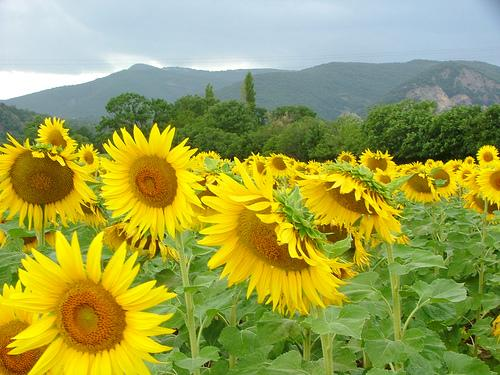sunflower: (3, 230, 176, 375), (199, 165, 347, 314), (98, 124, 205, 235), (3, 134, 97, 229), (297, 163, 405, 244), (400, 163, 438, 203), (474, 161, 500, 208), (39, 115, 71, 150), (426, 161, 457, 194), (475, 144, 498, 165)
